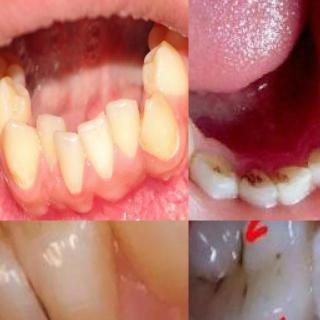cavities: (201, 244, 277, 302)
maligned: (136, 88, 188, 162), (52, 124, 88, 202), (3, 116, 42, 188), (78, 112, 122, 174), (31, 110, 70, 176), (106, 96, 144, 162)
plaque: (2, 162, 37, 200)
stains: (200, 146, 242, 186), (238, 164, 270, 194), (271, 162, 297, 192), (308, 142, 320, 172)
